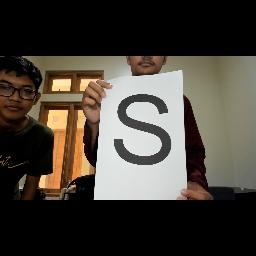s: (106, 90, 178, 172)
